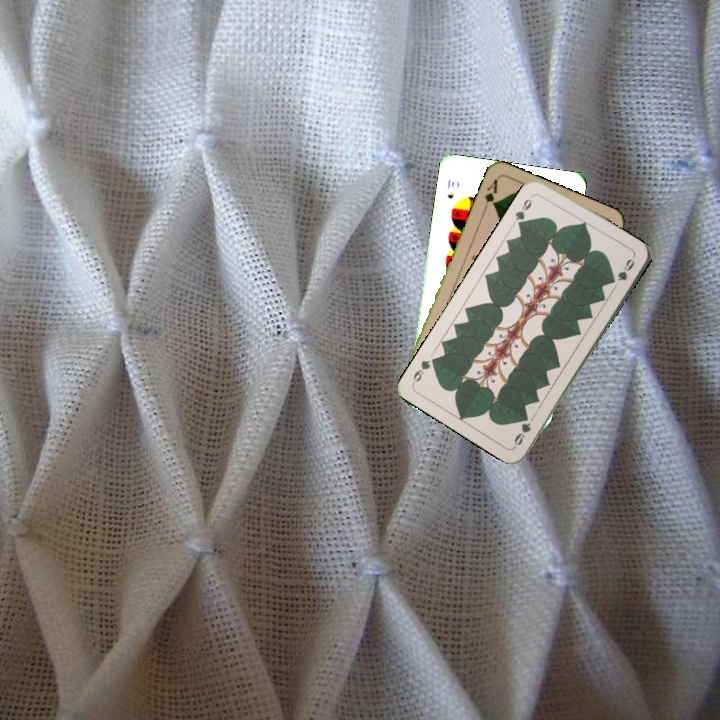G9: (511, 190, 537, 229), (510, 419, 534, 450)
GA: (479, 175, 500, 214)
S10: (443, 176, 457, 201)
